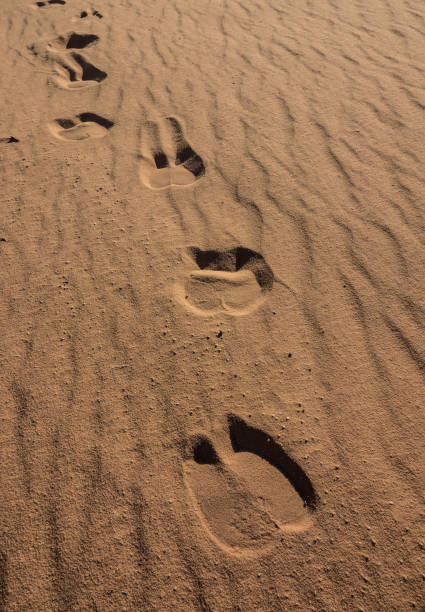animal_foot_print: (184, 415, 317, 553), (175, 246, 273, 315), (140, 117, 204, 188), (53, 51, 106, 88), (48, 112, 113, 140), (47, 31, 98, 51), (76, 9, 102, 18), (33, 0, 65, 7), (0, 136, 18, 143)
